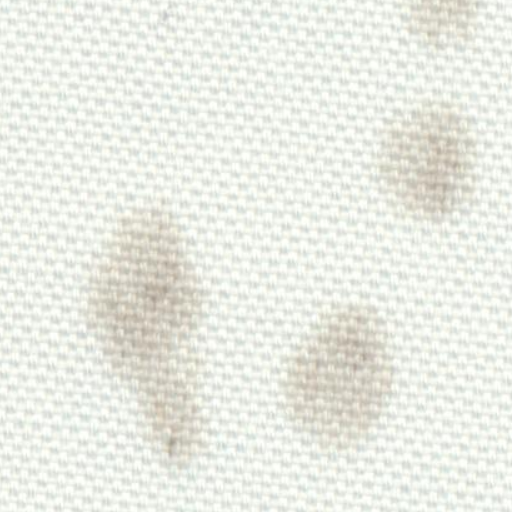WuZi: (68, 184, 226, 470), (261, 287, 405, 451), (372, 102, 485, 230), (408, 3, 485, 58)
